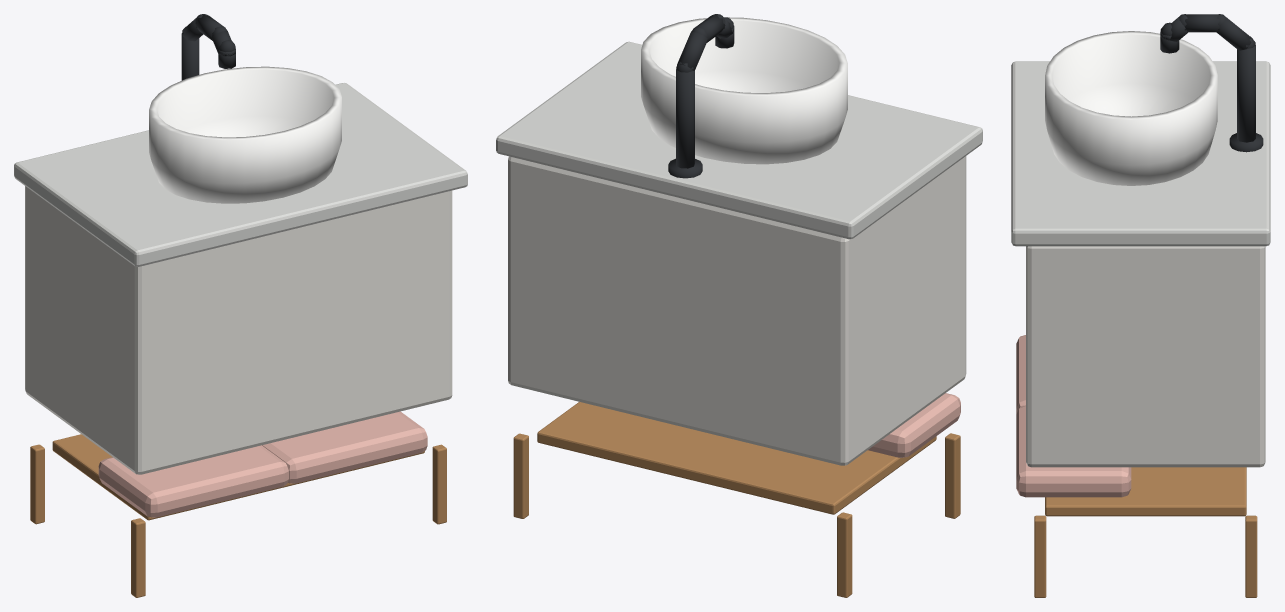
File: sinkVessel.glb
The picture shows the model from 3 angles, left to right: view 1: azimuth 30°, elevation 25°; view 2: azimuth 150°, elevation 25°; view 3: azimuth 270°, elevation 25°; orthographic projection. The views are drawn at different scales.
Visible parts, largest first — view 1: body; view 2: body; view 3: body.
Boxes of the visible parts, left/top/right/bottom form: body: left=14, top=14, right=467, bottom=597; body: left=496, top=14, right=982, bottom=597; body: left=1011, top=14, right=1270, bottom=597.
Bounding box in the file's own units: 0.84 × 1.16 × 0.54.
